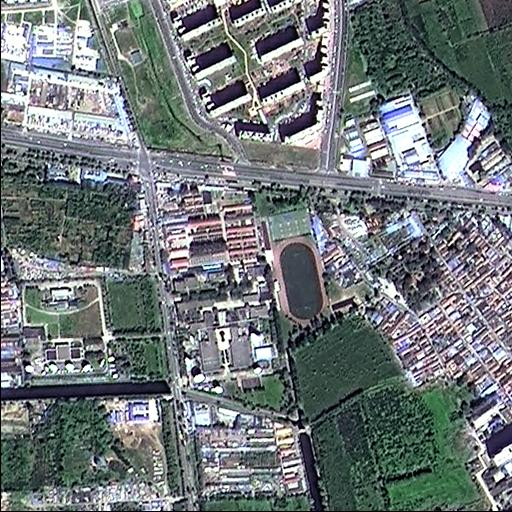school: (161, 204, 329, 326)
